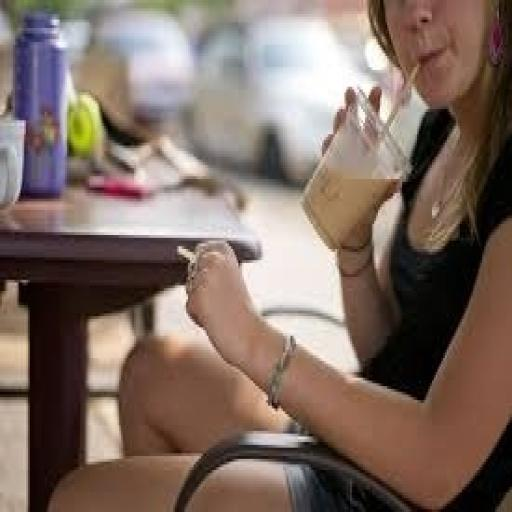drinking: (300, 84, 411, 252)
